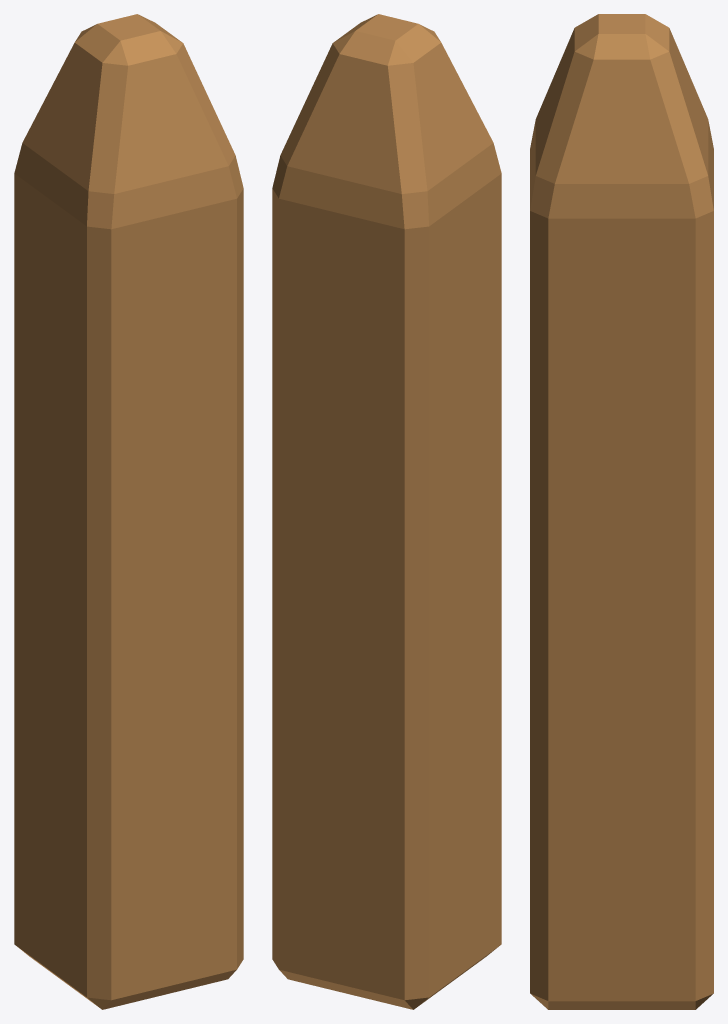
File: Fence2l.fbx
The picture shows the model from 3 angles, left to right: view 1: azimuth 30°, elevation 25°; view 2: azimuth 150°, elevation 25°; view 3: azimuth 270°, elevation 25°; orthographic projection.
Parts seen in each view (by area): view 1: Fence2; view 2: Fence2; view 3: Fence2.
Part boxes in pixels (bbox=[...]): Fence2: bbox=[14, 14, 243, 1009]; Fence2: bbox=[272, 14, 501, 1009]; Fence2: bbox=[530, 14, 713, 1009].
Size of the model in its own units: 24.56 by 141 by 24.56.
